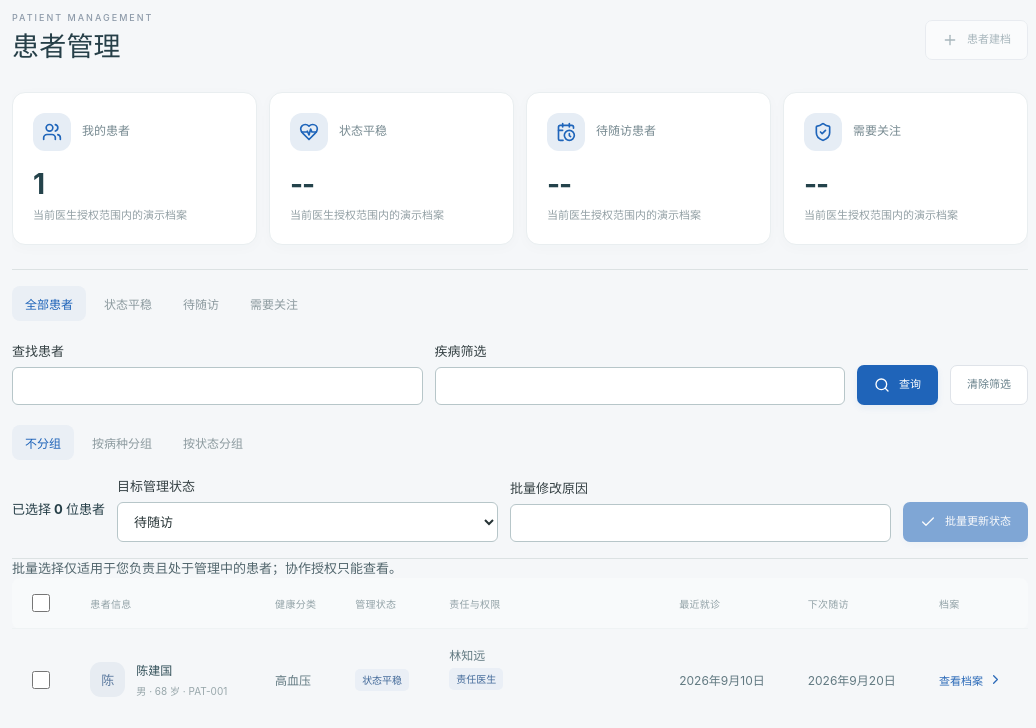
Test: Patients workflows › preserves batch selection and reason on a stale batch and requires refresh
Click the checkbox named "选择患者 PAT-001" at (41,680), box [32,671,50,689]
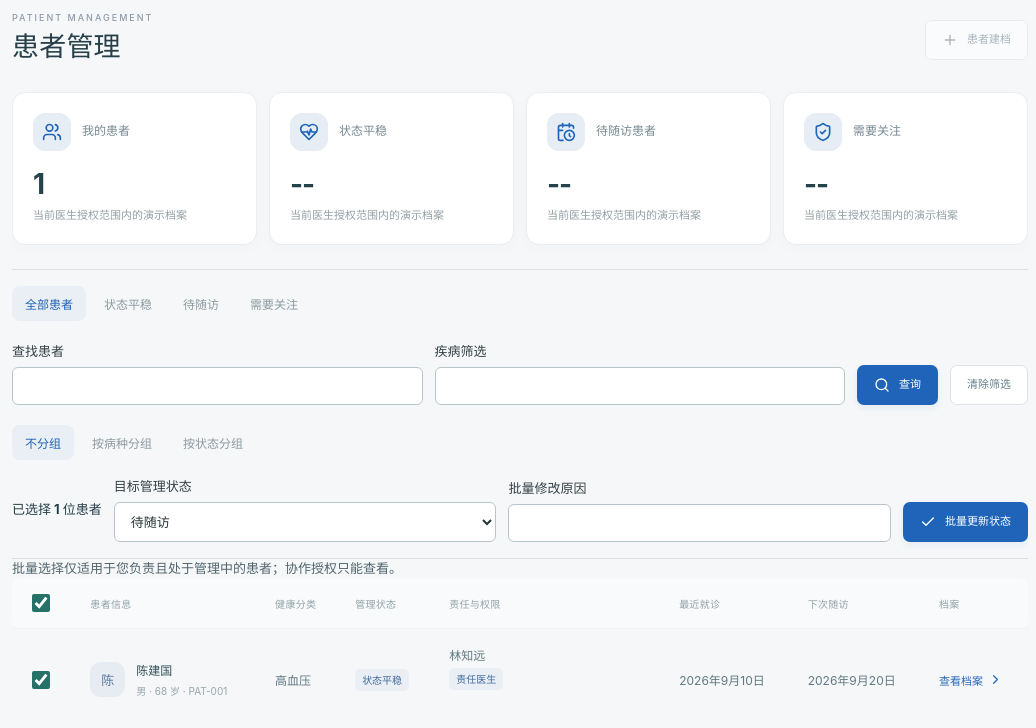
Type "Draft reason" into the field labelled "批量修改原因" at (700,522), box [508,504,891,542]
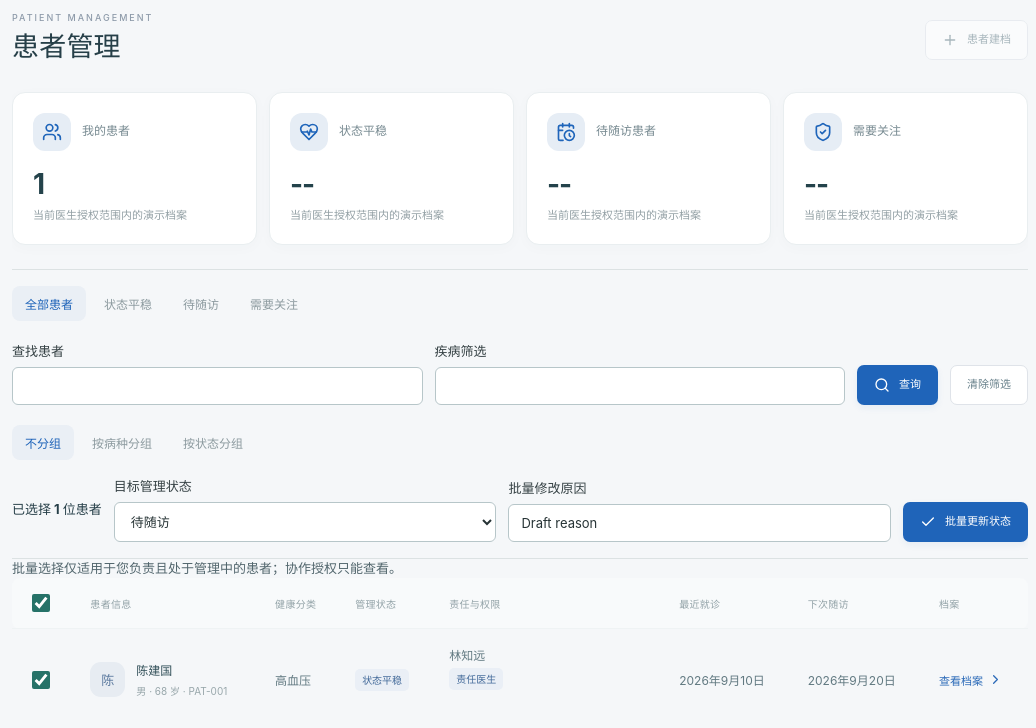
Click the button "批量更新状态" at (966,522), box [903,502,1028,542]
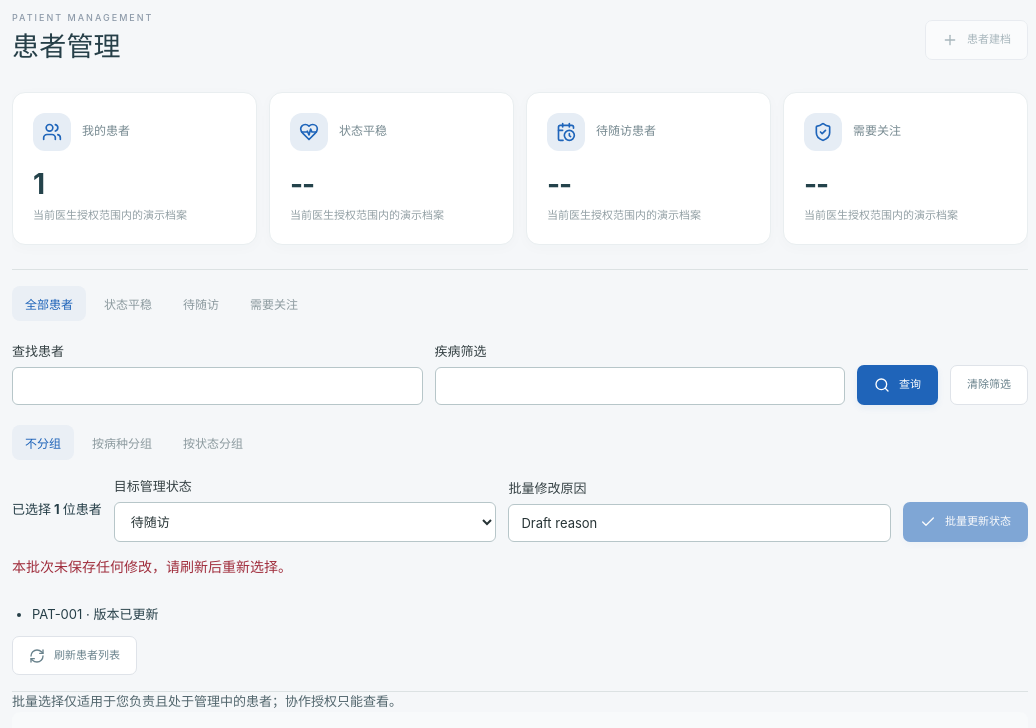
Expected: the message shows "本批次未保存任何修改", [12,558,292,574]
Expected: the button "批量更新状态" is disabled, [903,502,1028,542]
Click the button "刷新患者列表" at (74,656), box [12,636,137,675]
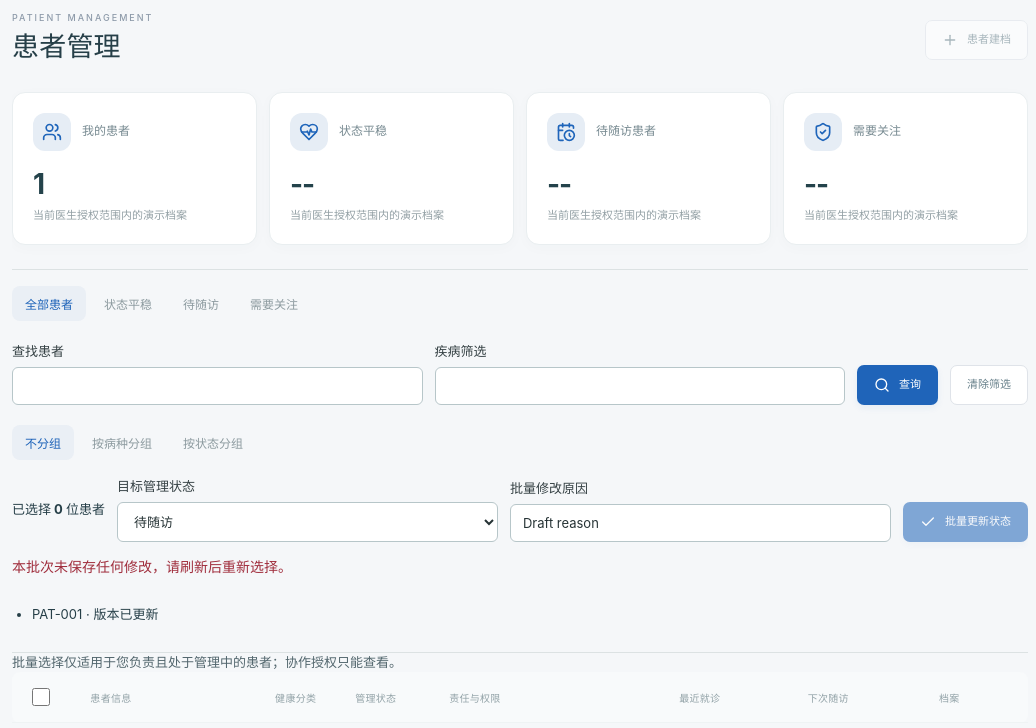
Expected: the text "已选择 0 位患者" is shown, [12,499,105,518]
